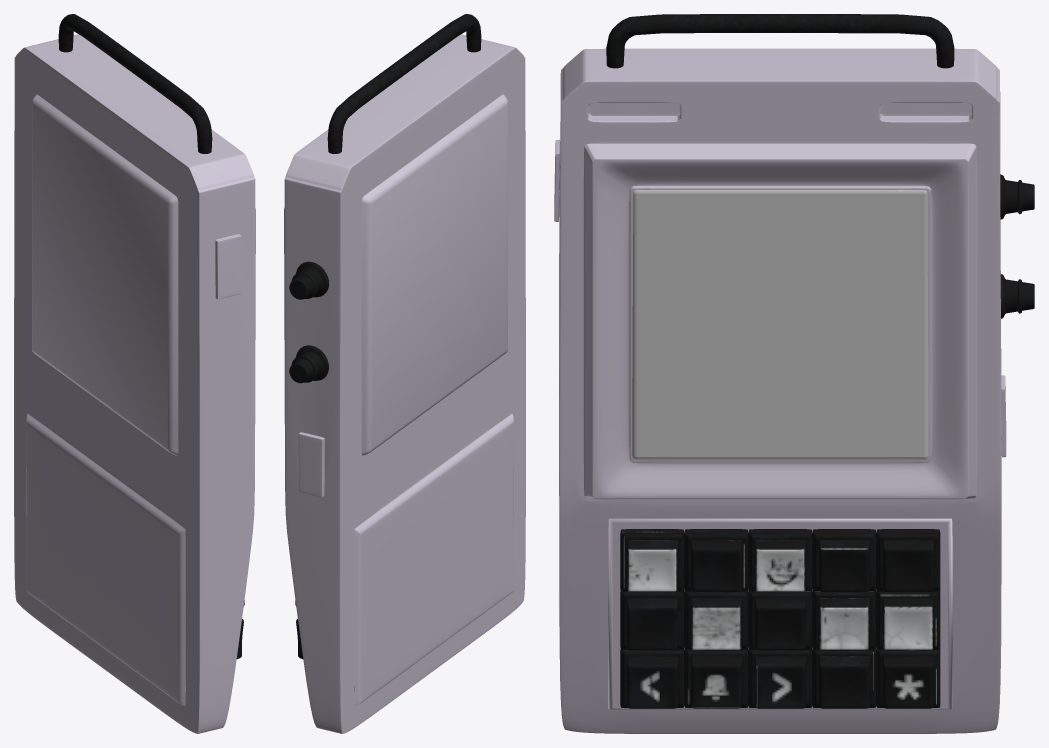
Rendered from IPAD_textured.fbx.
The picture shows the model from 3 angles, left to right: view 1: azimuth 30°, elevation 25°; view 2: azimuth 150°, elevation 25°; view 3: azimuth 270°, elevation 25°; orthographic projection. The views are drawn at different scales.
Visible parts, largest first — view 1: Cube.003, Plane, Cylinder.001; view 2: Cube.003, Plane, Cylinder.001, Cylinder; view 3: Cube.003, Cube.004, Cube.002, Cube.005, Cylinder.001, Cylinder.
Boxes of the visible parts, bbox=[...] form: Cube.003: bbox=[14, 34, 255, 733]; Plane: bbox=[32, 94, 178, 455]; Cylinder.001: bbox=[58, 14, 212, 153]; Cube.003: bbox=[284, 34, 525, 733]; Plane: bbox=[361, 94, 507, 455]; Cylinder.001: bbox=[327, 14, 481, 153]; Cylinder: bbox=[289, 261, 328, 383]; Cube.003: bbox=[554, 48, 1006, 733]; Cube.004: bbox=[632, 190, 928, 459]; Cube.002: bbox=[620, 529, 940, 708]; Cube.005: bbox=[608, 518, 952, 709]; Cylinder.001: bbox=[606, 14, 954, 68]; Cylinder: bbox=[1000, 174, 1034, 318].
Bounding box in the file's own units: 44.37 × 301 × 181.
